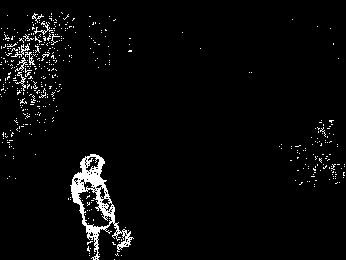person: (70, 152, 134, 260)
